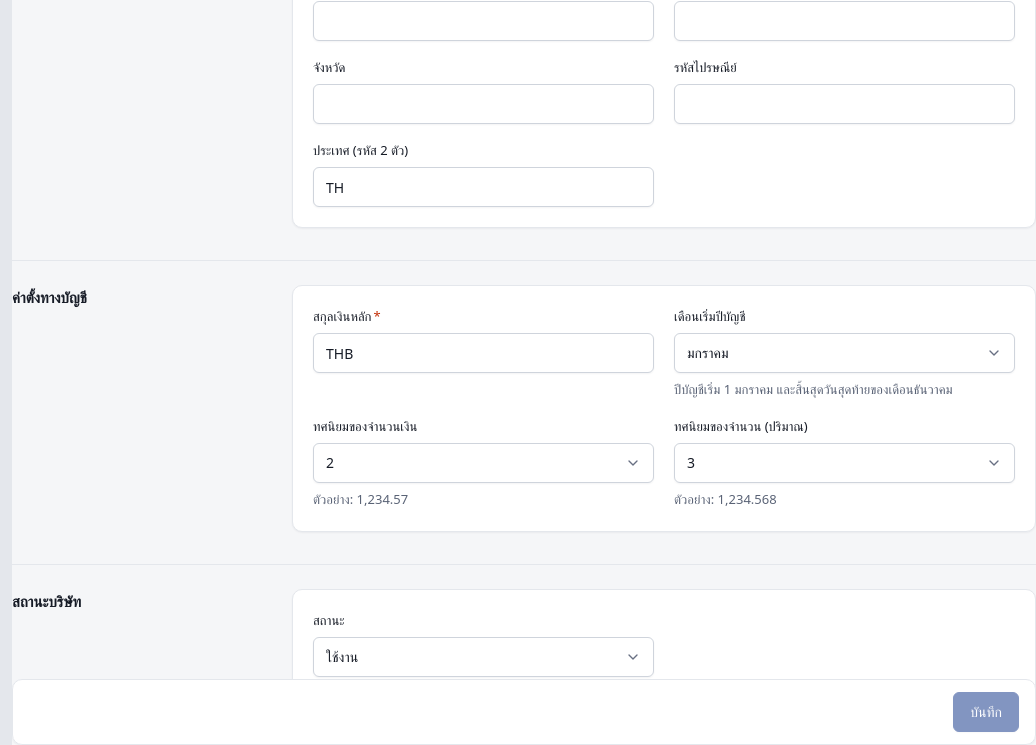
Test: CompanySettingsForm › ทศนิยมเลือกได้ตั้งแต่ค่าปัจจุบัน (ลดไม่ได้); PUT ไม่ส่ง id / code; บันทึกแล้วอยู่หน้าเดิม
The width and height of the screenshot is (1036, 745).
(page scrolled)
Check: the button "บันทึก" is disabled, box [953,692,1019,732]
Select "ตุลาคม" in the dropdown labelled "เดือนเริ่มปีบัญชี": coordinates (844, 353) [675,334,1014,372]
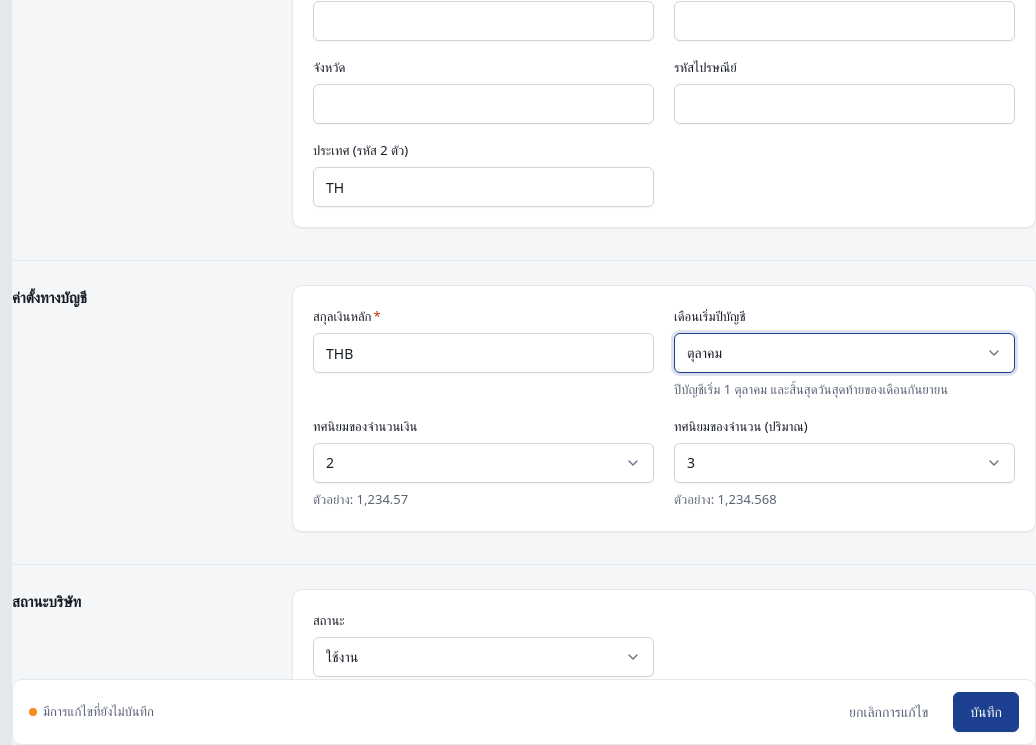
Check: the text "มีการแก้ไขที่ยังไม่บันทึก" is shown, box [29,701,154,722]
Click the button "บันทึก": coordinates (986, 712) [953,692,1019,732]
(page scrolled)
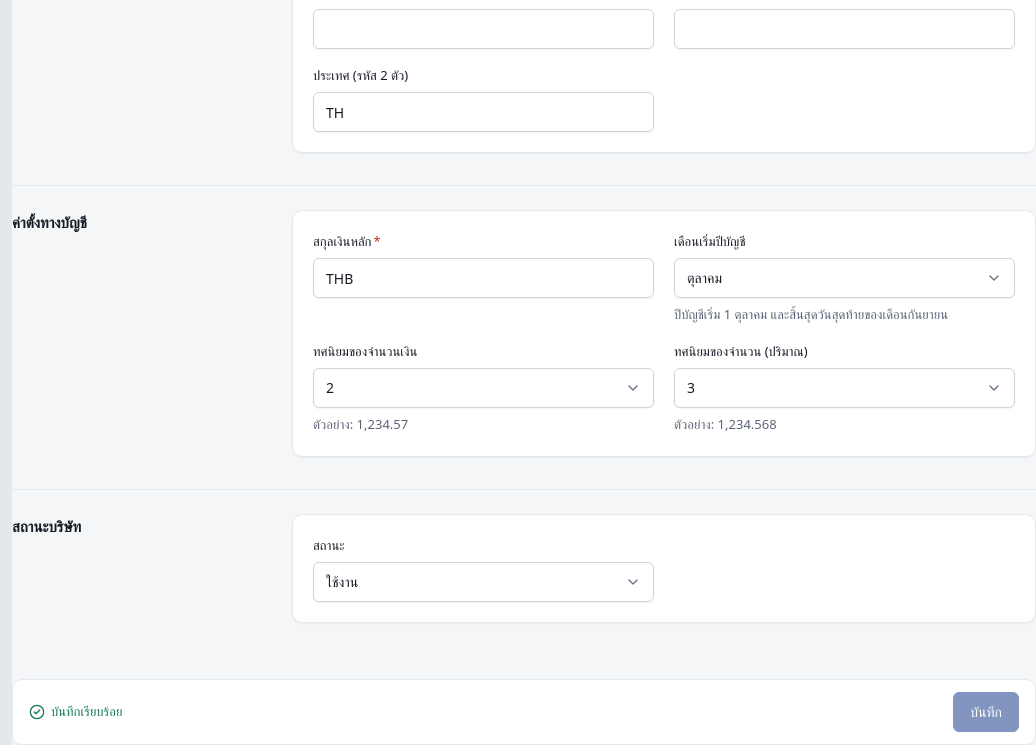
Check: the text "บันทึกเรียบร้อย" is shown, box [29,701,122,722]
